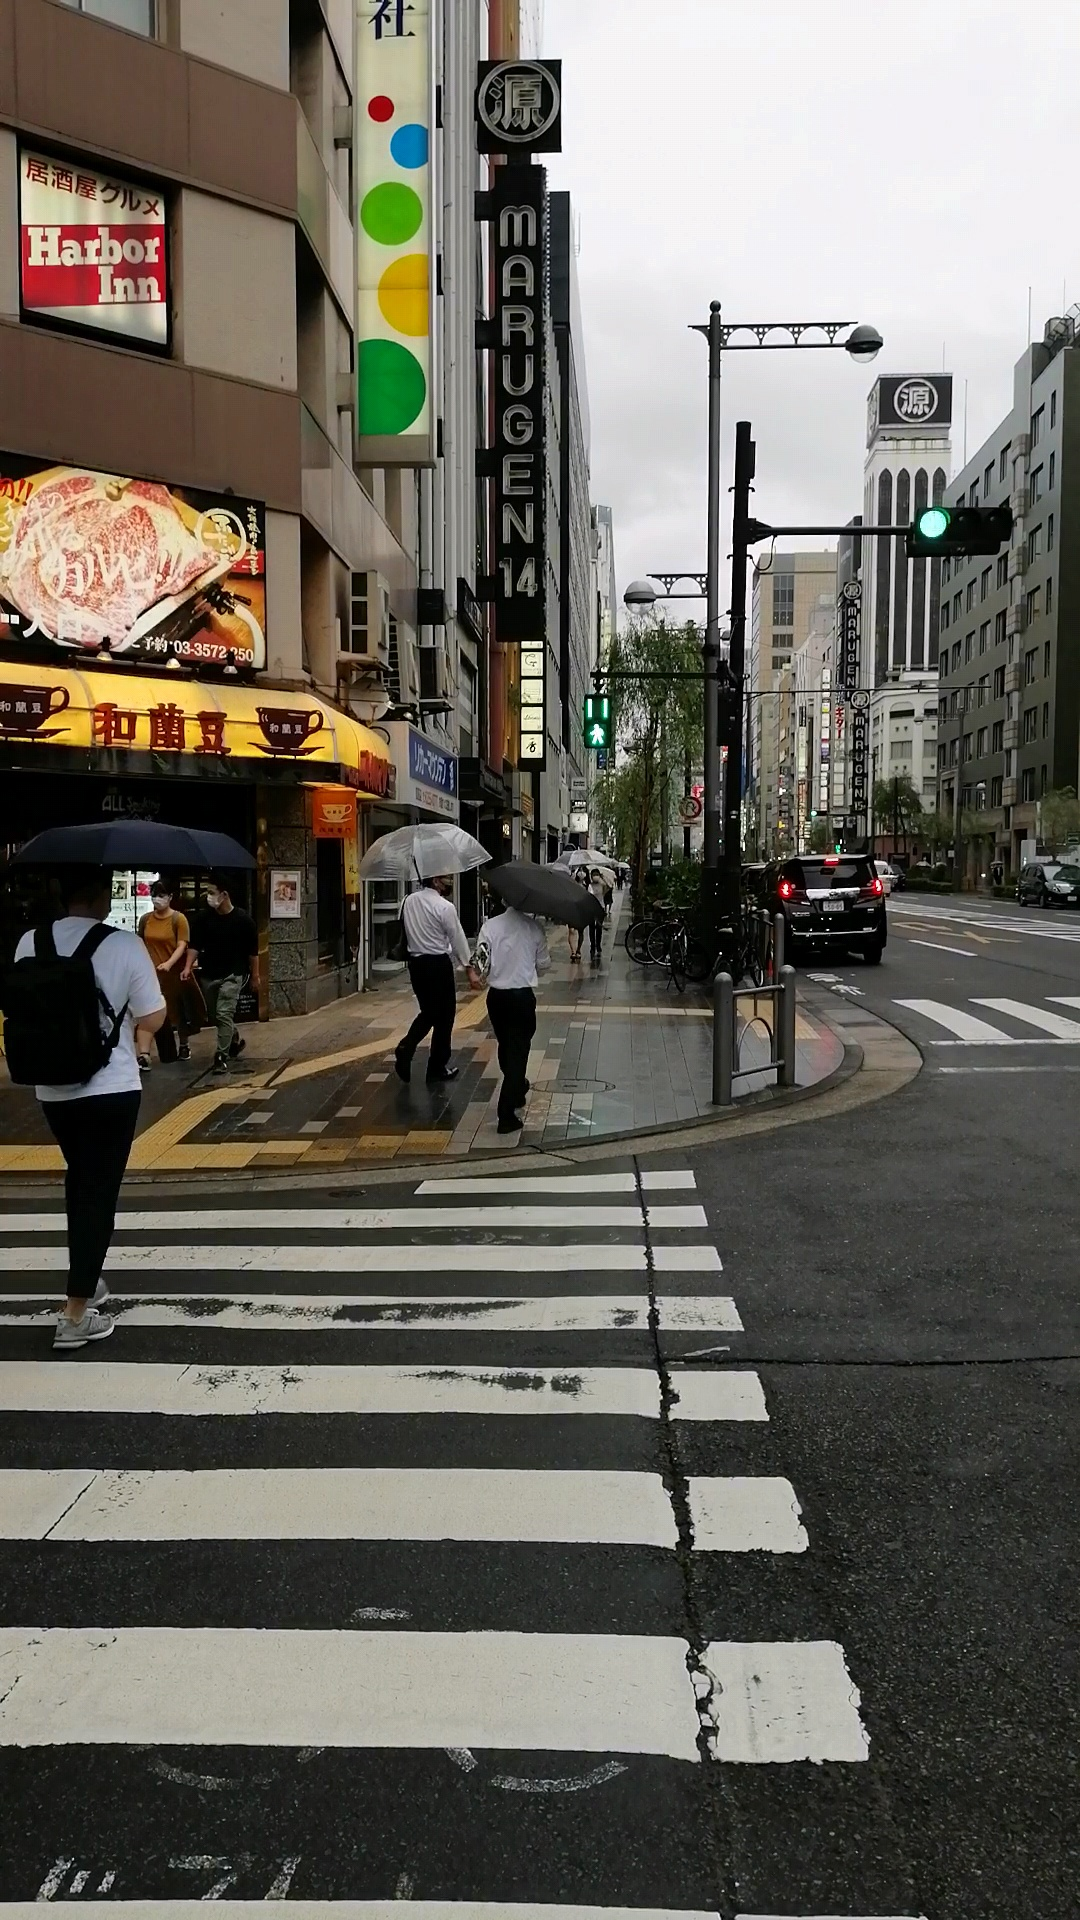green: (582, 694, 611, 748)
